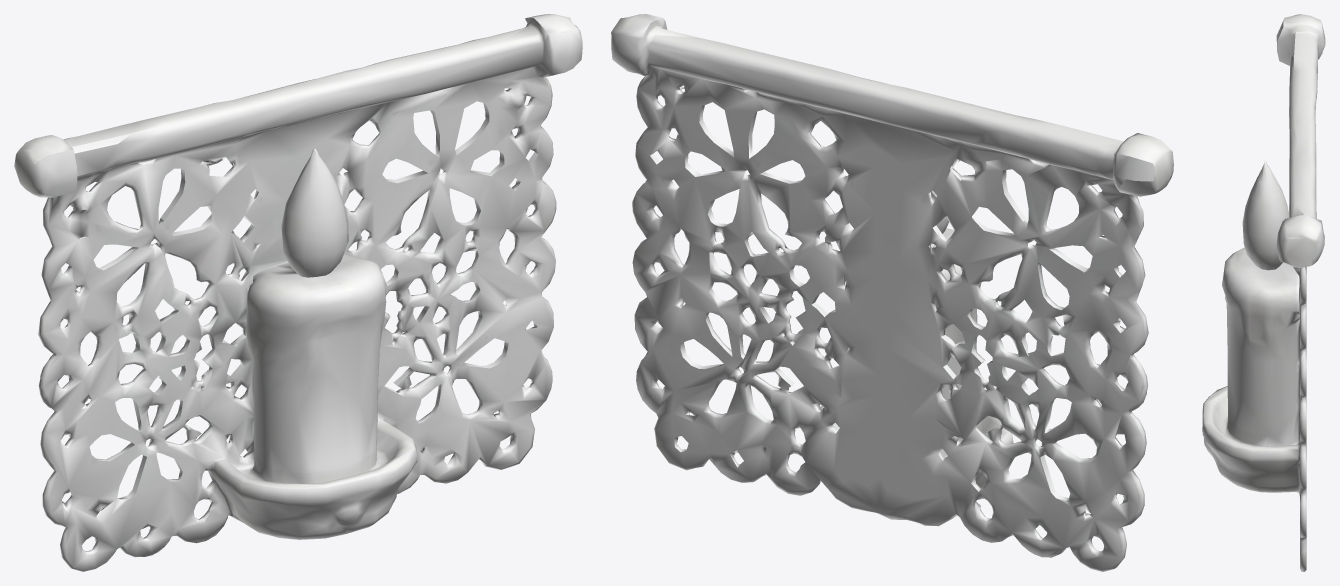
Rendered from papel-vela.glb.
3 renders of one model, left to right at view 1: azimuth 30°, elevation 25°; view 2: azimuth 150°, elevation 25°; view 3: azimuth 270°, elevation 25°, orthographic. The views are drawn at different scales.
Visible parts, largest first — view 1: Mesh_0; view 2: Mesh_0; view 3: Mesh_0.
Boxes of the visible parts, x1,y1,x2,y2 form: Mesh_0: (14, 14, 582, 571); Mesh_0: (611, 14, 1173, 571); Mesh_0: (1202, 14, 1325, 571).
Size of the model in its own units: 1.9 by 1.47 by 0.4465.
Materials: 1 (1 with a texture image).
